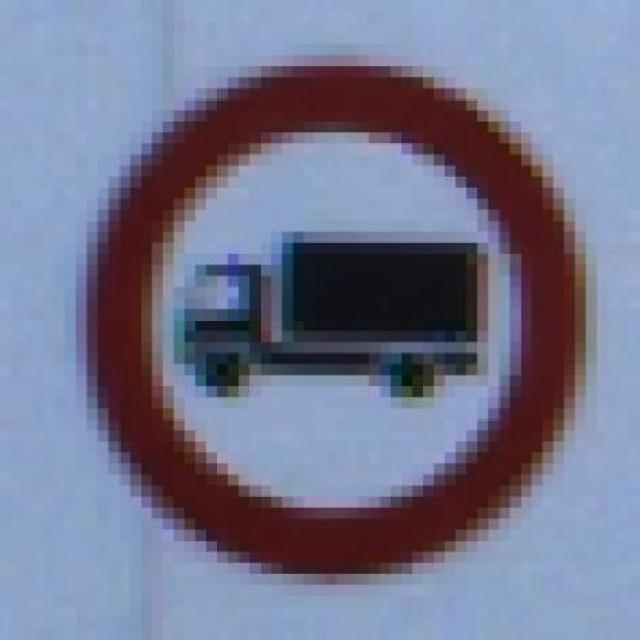Truck traffic is prohibited: (54, 33, 608, 585)
